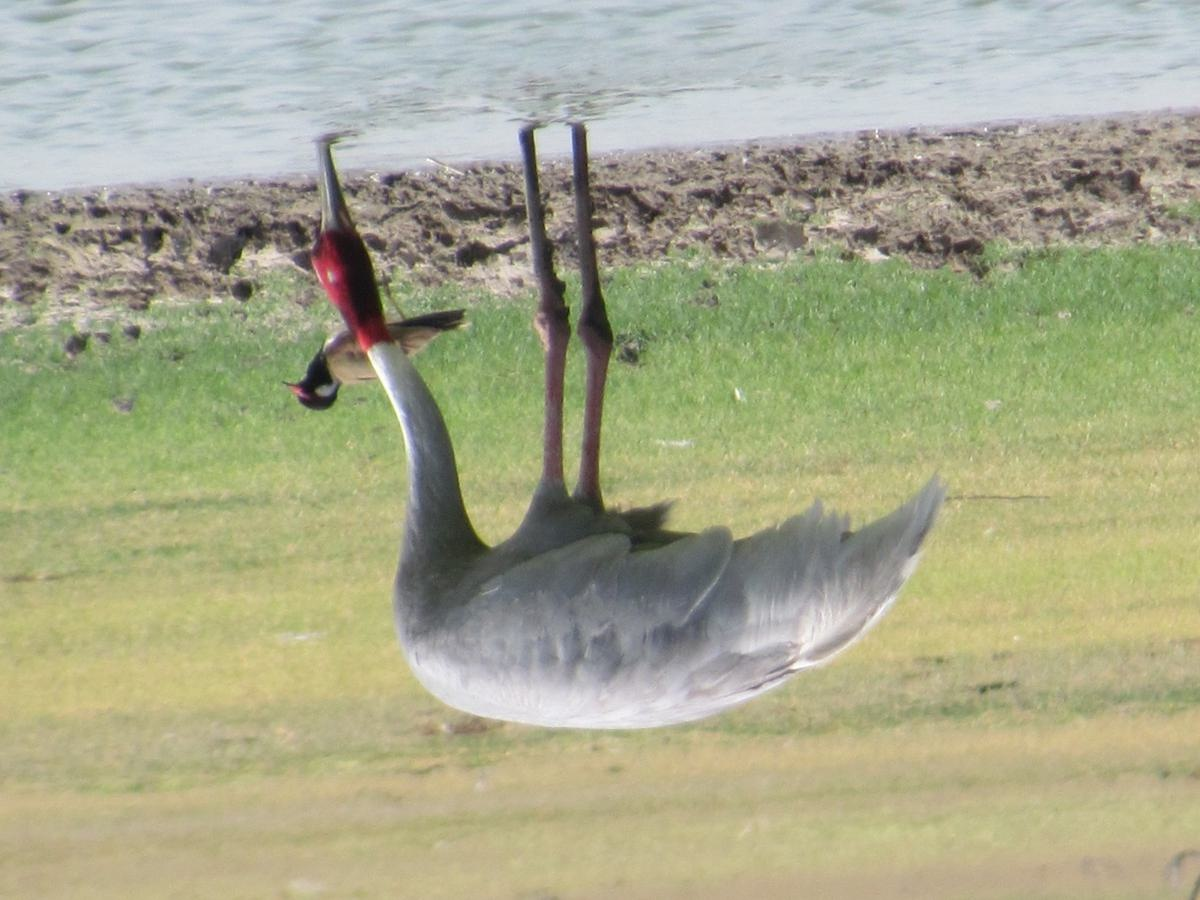crane: (291, 107, 939, 741)
